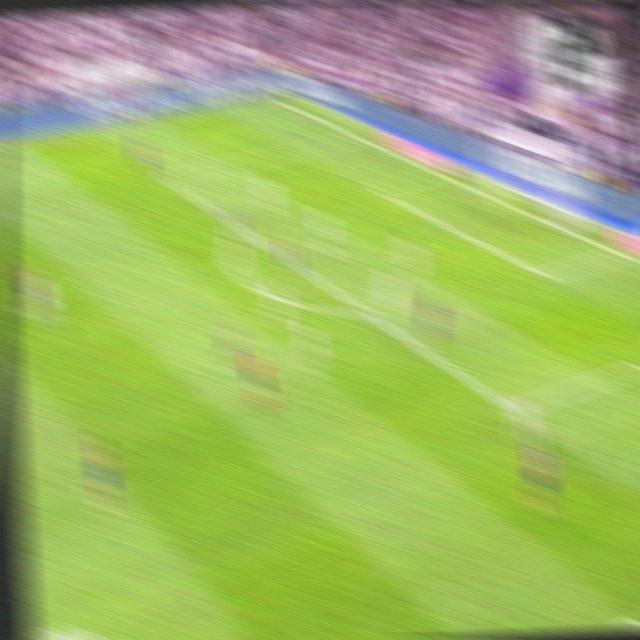bigarea_bottom_inner: (501, 396, 523, 421)
bigarea_top_inner: (158, 169, 178, 189)
bigarea_top_outter: (345, 127, 366, 145)
bottom_arc_area_intersection: (353, 299, 377, 324)
corner: (264, 91, 284, 105)
smallarea_bottom_inner: (536, 264, 557, 288)
smallarea_top_inner: (369, 182, 386, 197)
top_arc_area_intersection: (236, 221, 256, 241)
